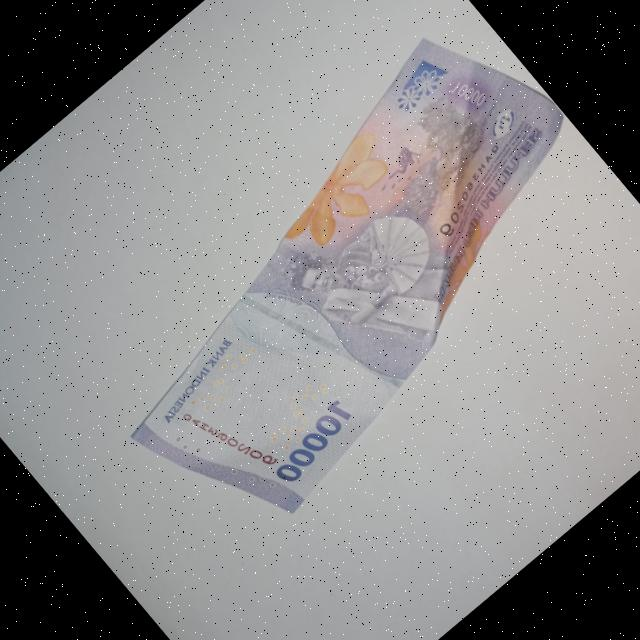10K: (43, 0, 640, 576)
